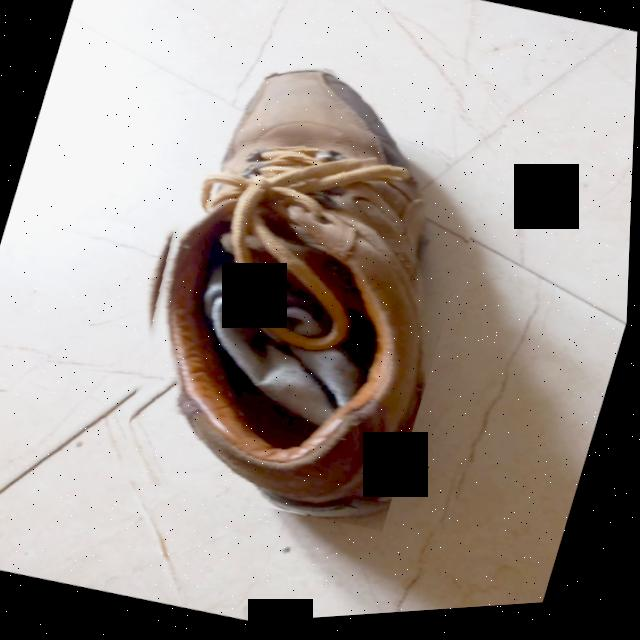shoe: (90, 32, 513, 552)
